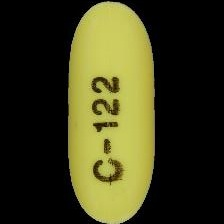0832-1015: (0, 0, 224, 224)
